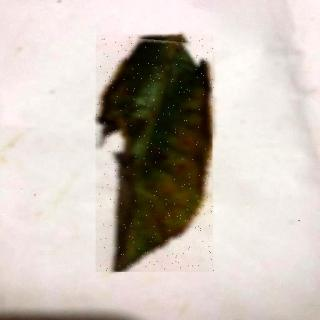Red Leaf Spot: (97, 35, 215, 273)
